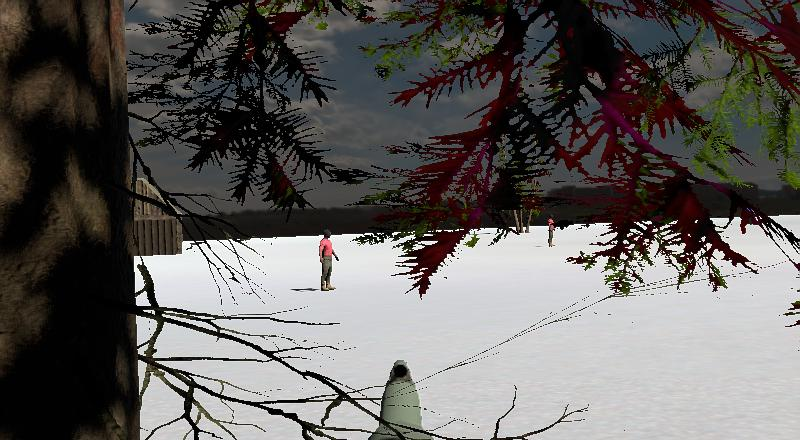Human: (313, 224, 347, 296)
